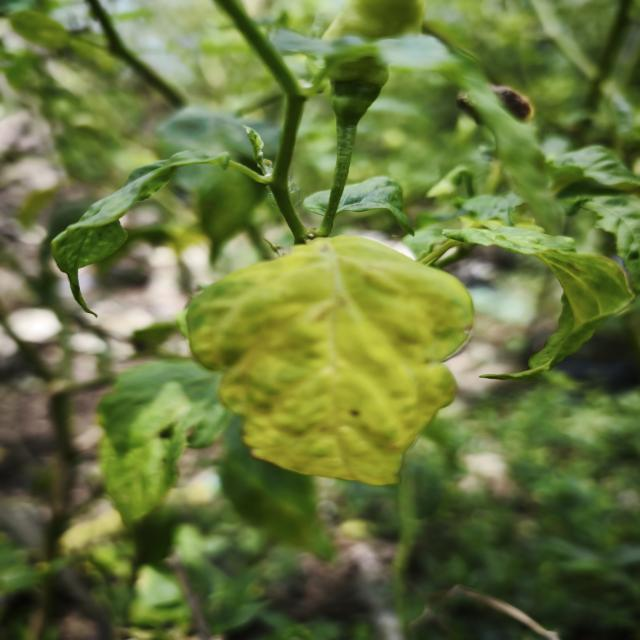Virus Kuning: (178, 234, 476, 486)
